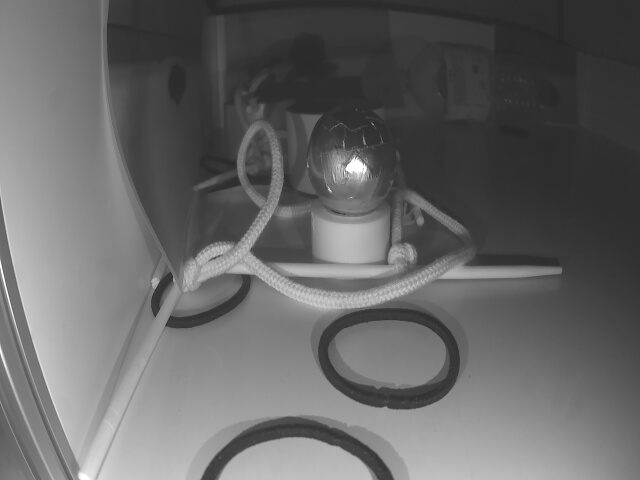Live: (308, 106, 394, 212)
